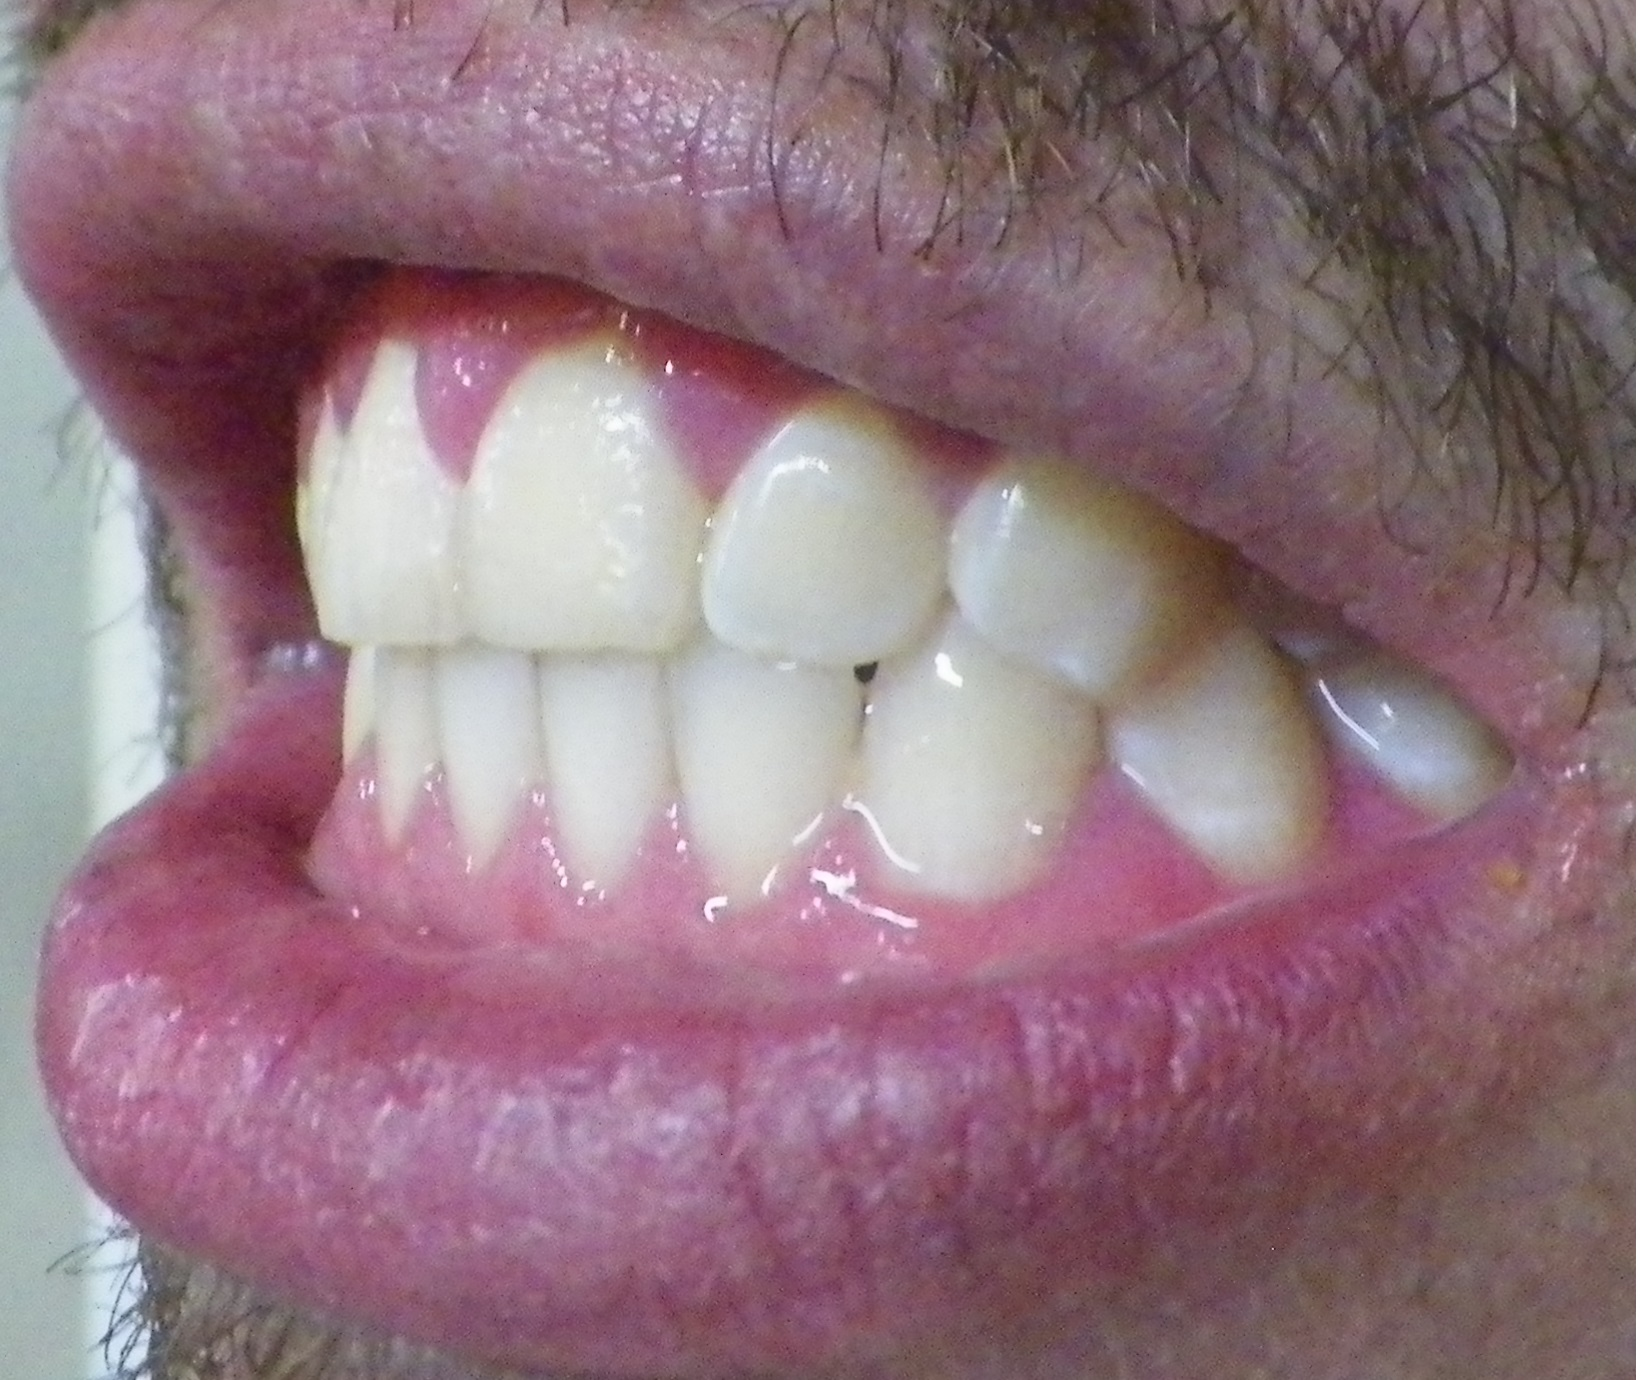boca: (297, 340, 1494, 891)
